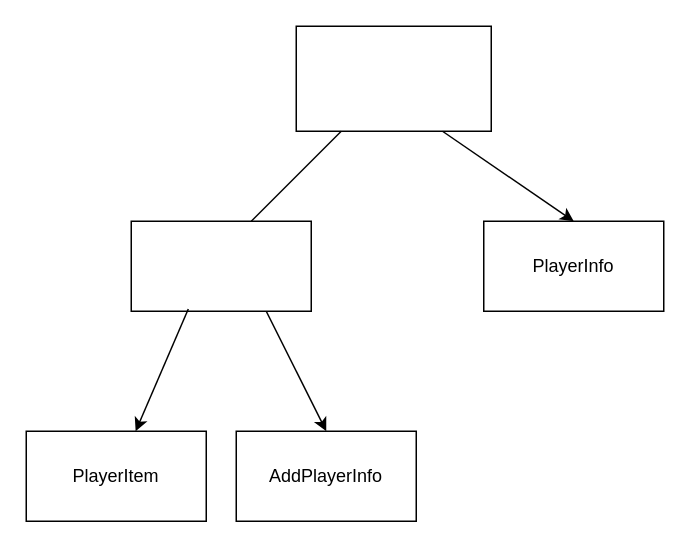
The diagram is 690 pixels wide and 548 high, and some of its shapes have lost their labels. Here are the shapes that lost their labels. From the top down, the centre of each, then its label:
At pixel 393 78: "App".
At pixel 220 265: "Lineup".
